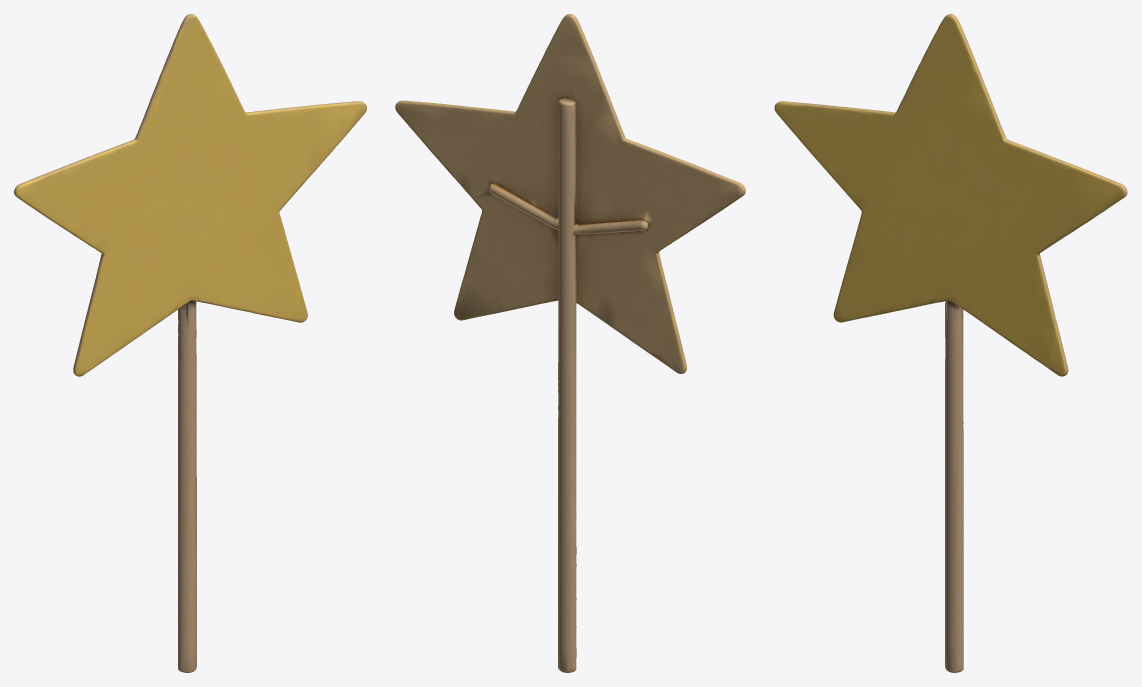
File: bk-topper-star.glb
3 renders of one model, left to right at view 1: azimuth 30°, elevation 25°; view 2: azimuth 150°, elevation 25°; view 3: azimuth 330°, elevation 25°, orthographic.
Parts seen in each view (by area): view 1: node_0; view 2: node_0; view 3: node_0.
Boxes of the visible parts, x1,y1,x2,y2 form: node_0: [14, 14, 366, 672]; node_0: [395, 14, 745, 672]; node_0: [774, 14, 1127, 672].
Size of the model in its own units: 0.6709 by 1.2 by 0.0284.
Materials: 1 (1 with a texture image).
